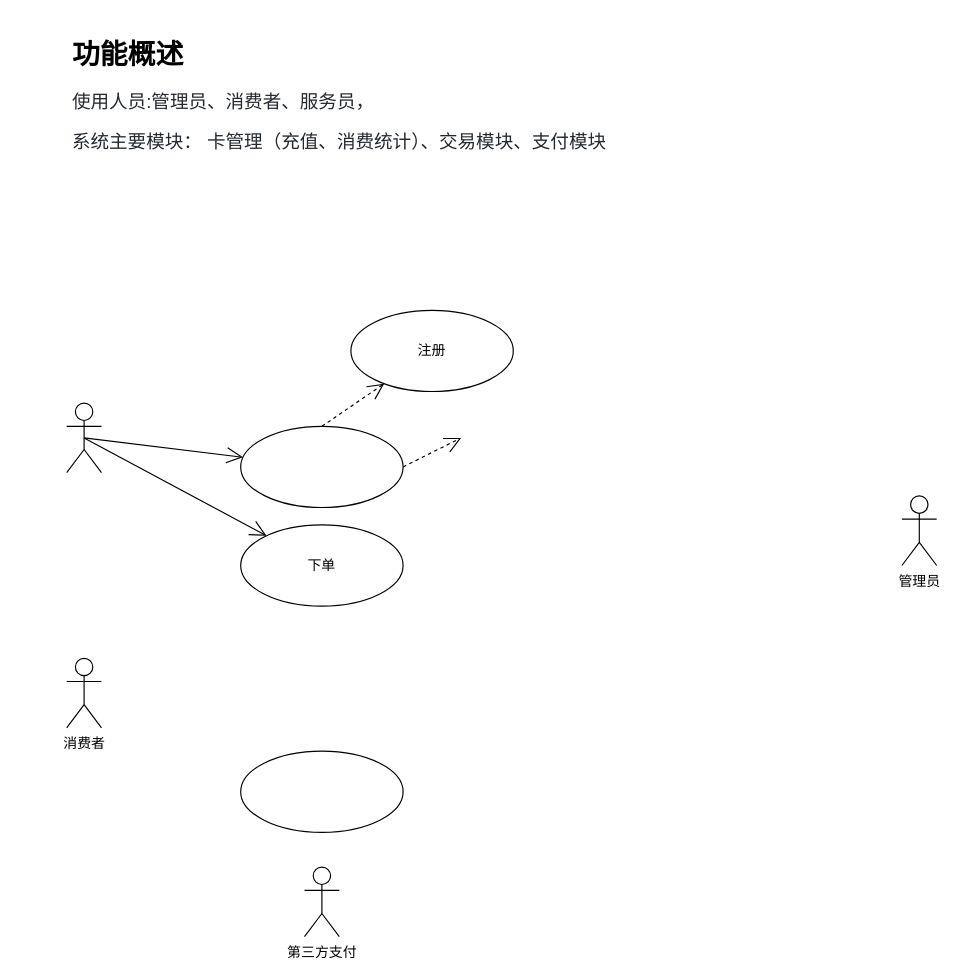
Image size: 959x980. Some labels were removed from this diagram. Each missing label, with the centre of its shape:
卡管理: point (321, 466)
支付: point (321, 791)
服务员: point (84, 437)
